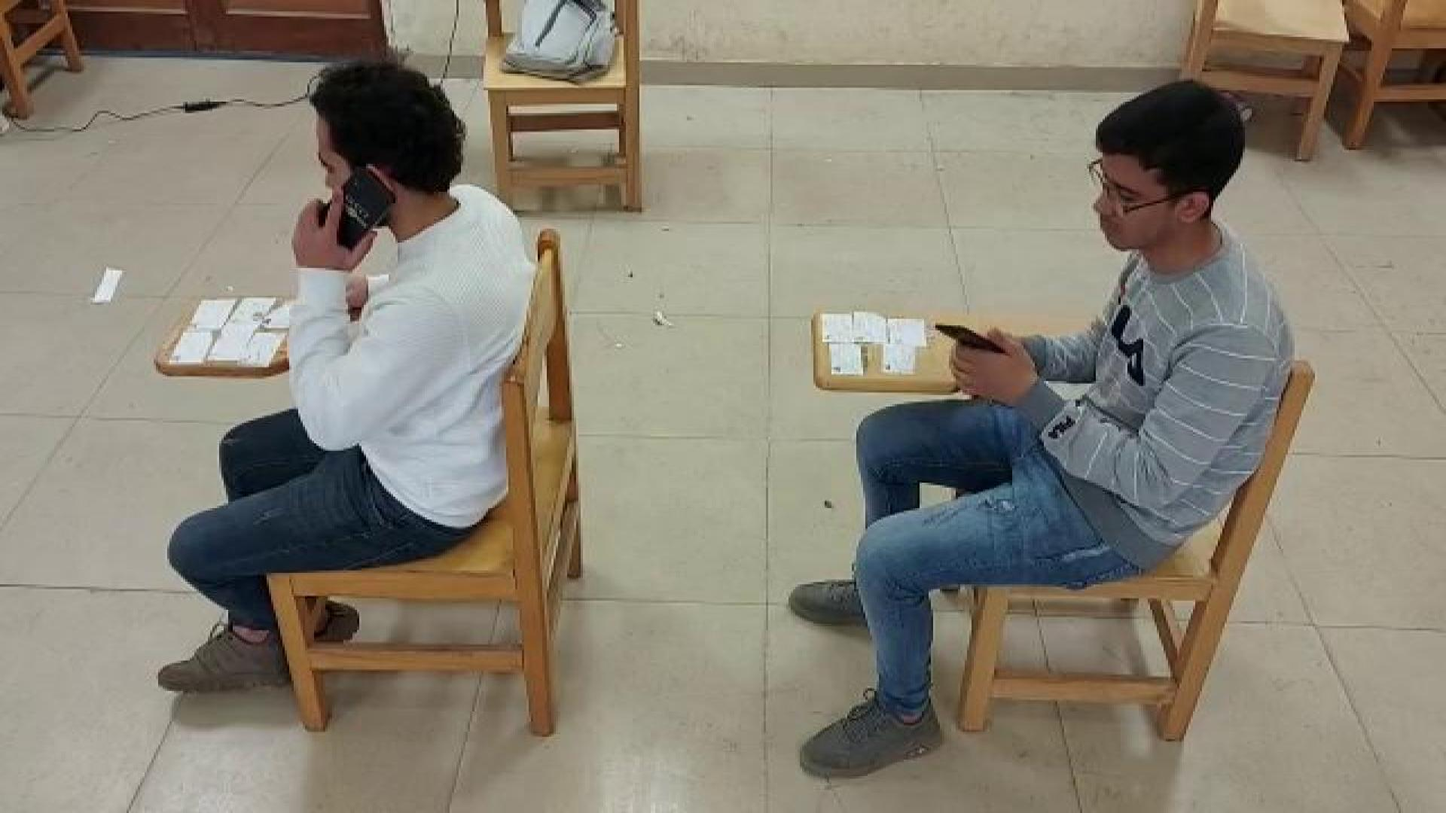phone: (312, 161, 400, 257), (931, 320, 1010, 360)
